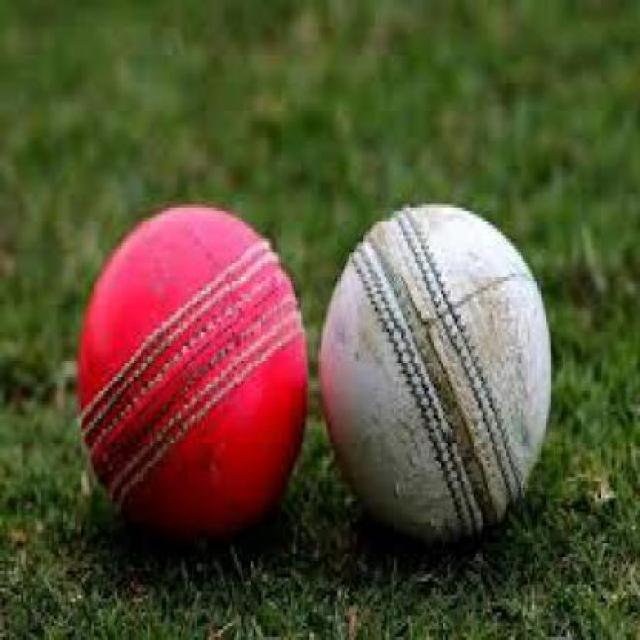Cricket ball: (314, 198, 560, 550), (66, 199, 314, 547)
